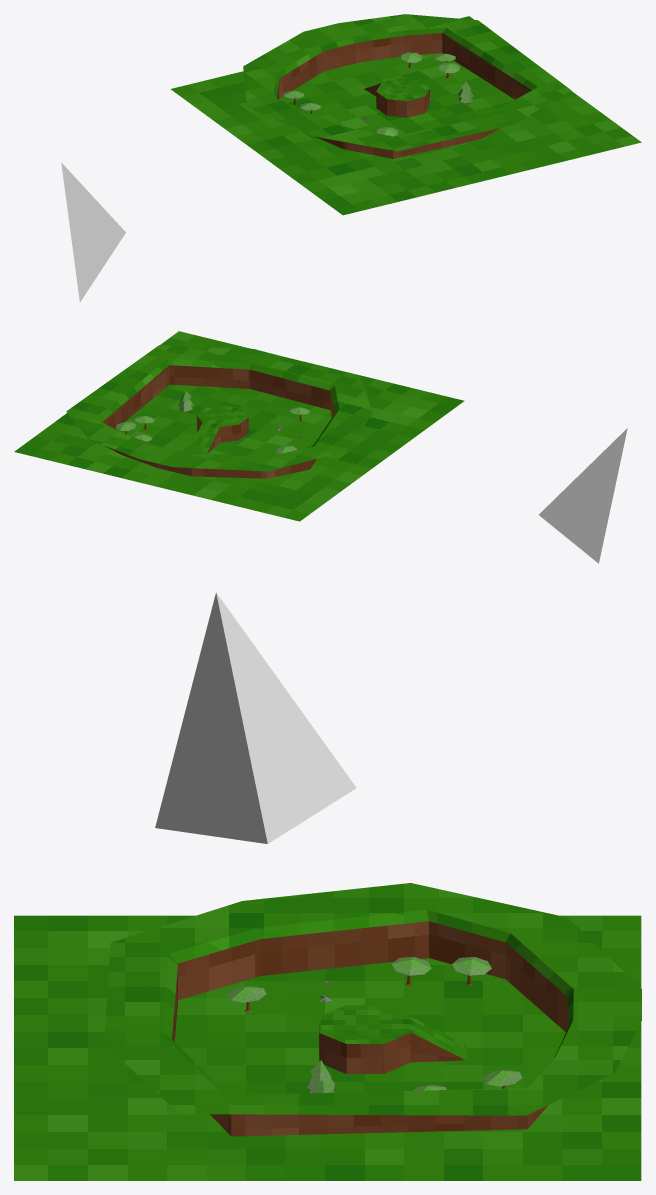
3 views of the same model, one above another, from view 1: azimuth 30°, elevation 25°; view 2: azimuth 150°, elevation 25°; view 3: azimuth 270°, elevation 25° (orthographic). The views are drawn at different scales.
Visible parts, largest first — view 1: Ground, Environment, Cone, Env_Center; view 2: Ground, Environment, Cone, Env_Center; view 3: Ground, Environment, Cone, Env_Center.
Boxes of the visible parts, bbox=[...] form: Ground: bbox=[170, 16, 641, 215]; Environment: bbox=[243, 14, 571, 158]; Cone: bbox=[61, 162, 125, 302]; Env_Center: bbox=[364, 78, 429, 117]; Ground: bbox=[14, 331, 464, 521]; Environment: bbox=[66, 345, 372, 478]; Cone: bbox=[539, 428, 627, 563]; Env_Center: bbox=[190, 405, 248, 453]; Ground: bbox=[14, 915, 641, 1180]; Environment: bbox=[104, 883, 641, 1136]; Cone: bbox=[155, 592, 356, 843]; Env_Center: bbox=[319, 1005, 466, 1073].
Size of the model in its own units: 357 by 82.38 by 200.
Materials: 2 (2 with a texture image).
